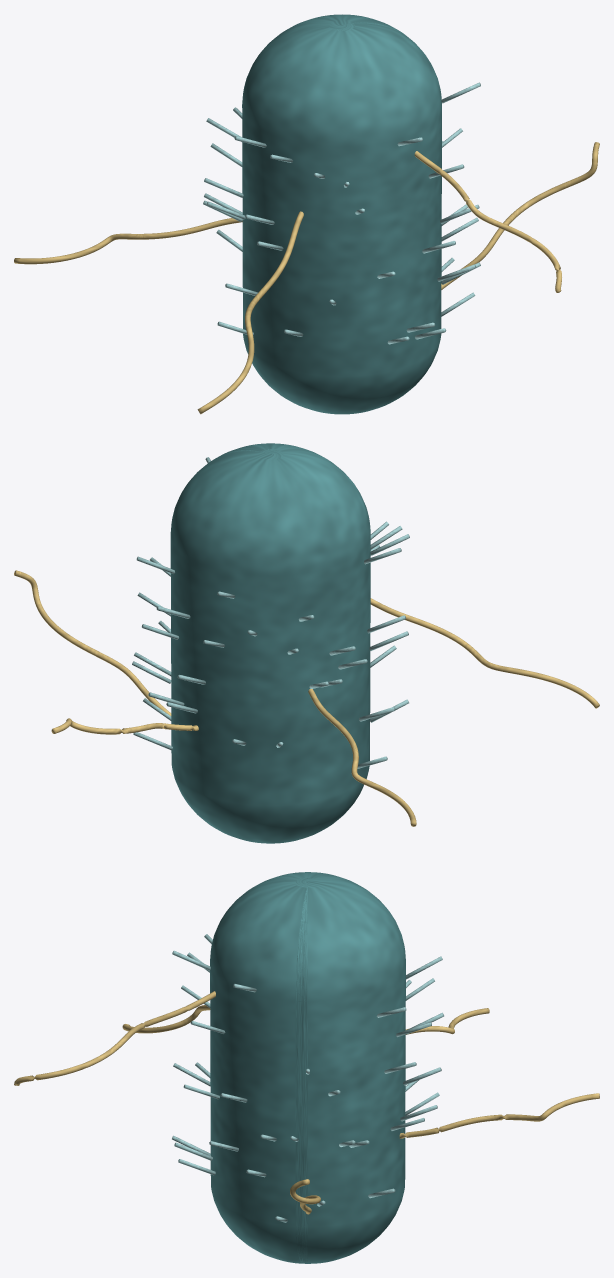
Rendered from complete.glb.
3 renders of one model, top to bottom at view 1: azimuth 30°, elevation 25°; view 2: azimuth 150°, elevation 25°; view 3: azimuth 270°, elevation 25°, orthographic. The views are drawn at different scales.
Parts seen in each view (by area): view 1: externa_mesh, flagelo_mesh, pili_mesh; view 2: externa_mesh, flagelo_mesh, pili_mesh; view 3: externa_mesh, pili_mesh, flagelo_mesh.
Boxes of the visible parts, bbox=[...] form: externa_mesh: bbox=[242, 14, 441, 414]; flagelo_mesh: bbox=[14, 142, 599, 414]; pili_mesh: bbox=[203, 82, 480, 344]; externa_mesh: bbox=[170, 443, 370, 843]; flagelo_mesh: bbox=[14, 570, 599, 826]; pili_mesh: bbox=[132, 457, 409, 768]; externa_mesh: bbox=[210, 872, 405, 1263]; pili_mesh: bbox=[172, 934, 443, 1222]; flagelo_mesh: bbox=[14, 991, 599, 1214].
Bounding box in the file's own units: 3.14 × 2.3 × 3.29.
Materials: 8 (8 with a texture image).
